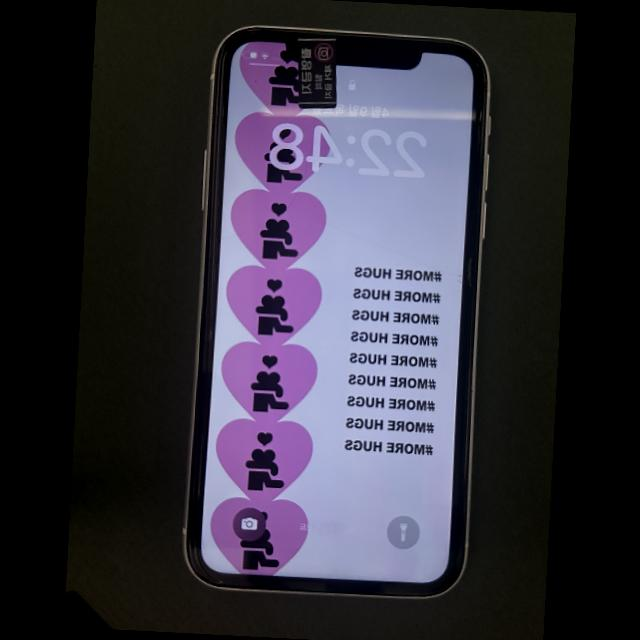phone: (184, 28, 489, 596)
sticker: (297, 34, 337, 109)
